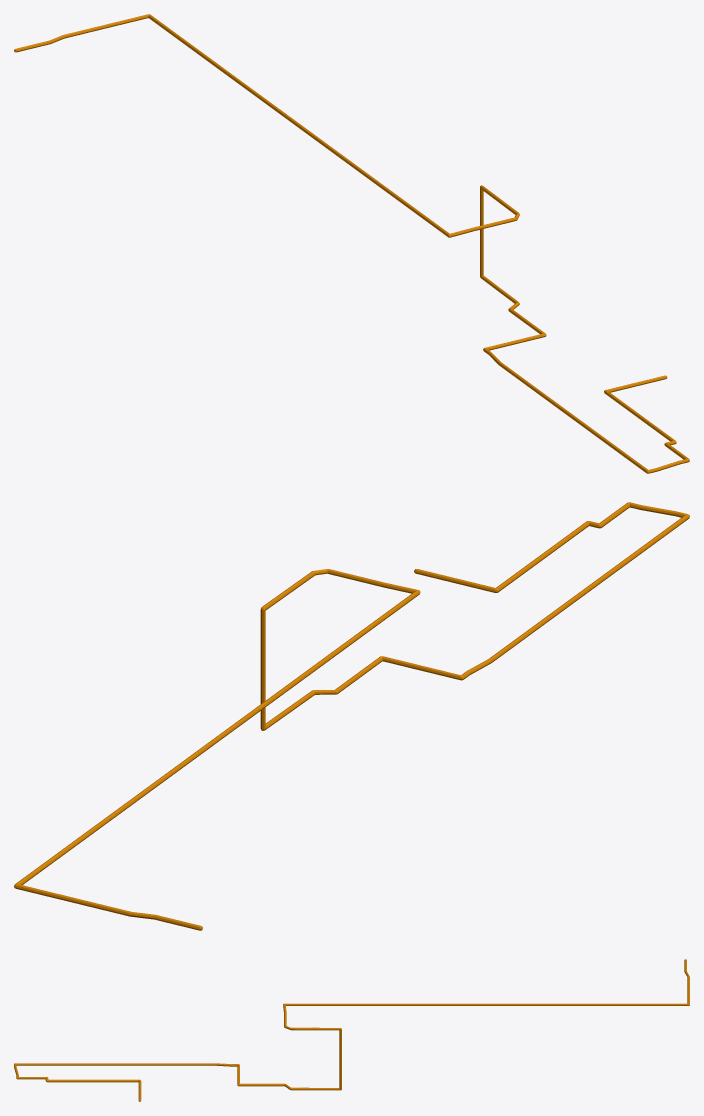
3 views of the same model, one above another, from view 1: azimuth 30°, elevation 25°; view 2: azimuth 150°, elevation 25°; view 3: azimuth 270°, elevation 25° (orthographic). The views are drawn at different scales.
Bounding box in the file's own units: 1450 × 520 × 5101.
